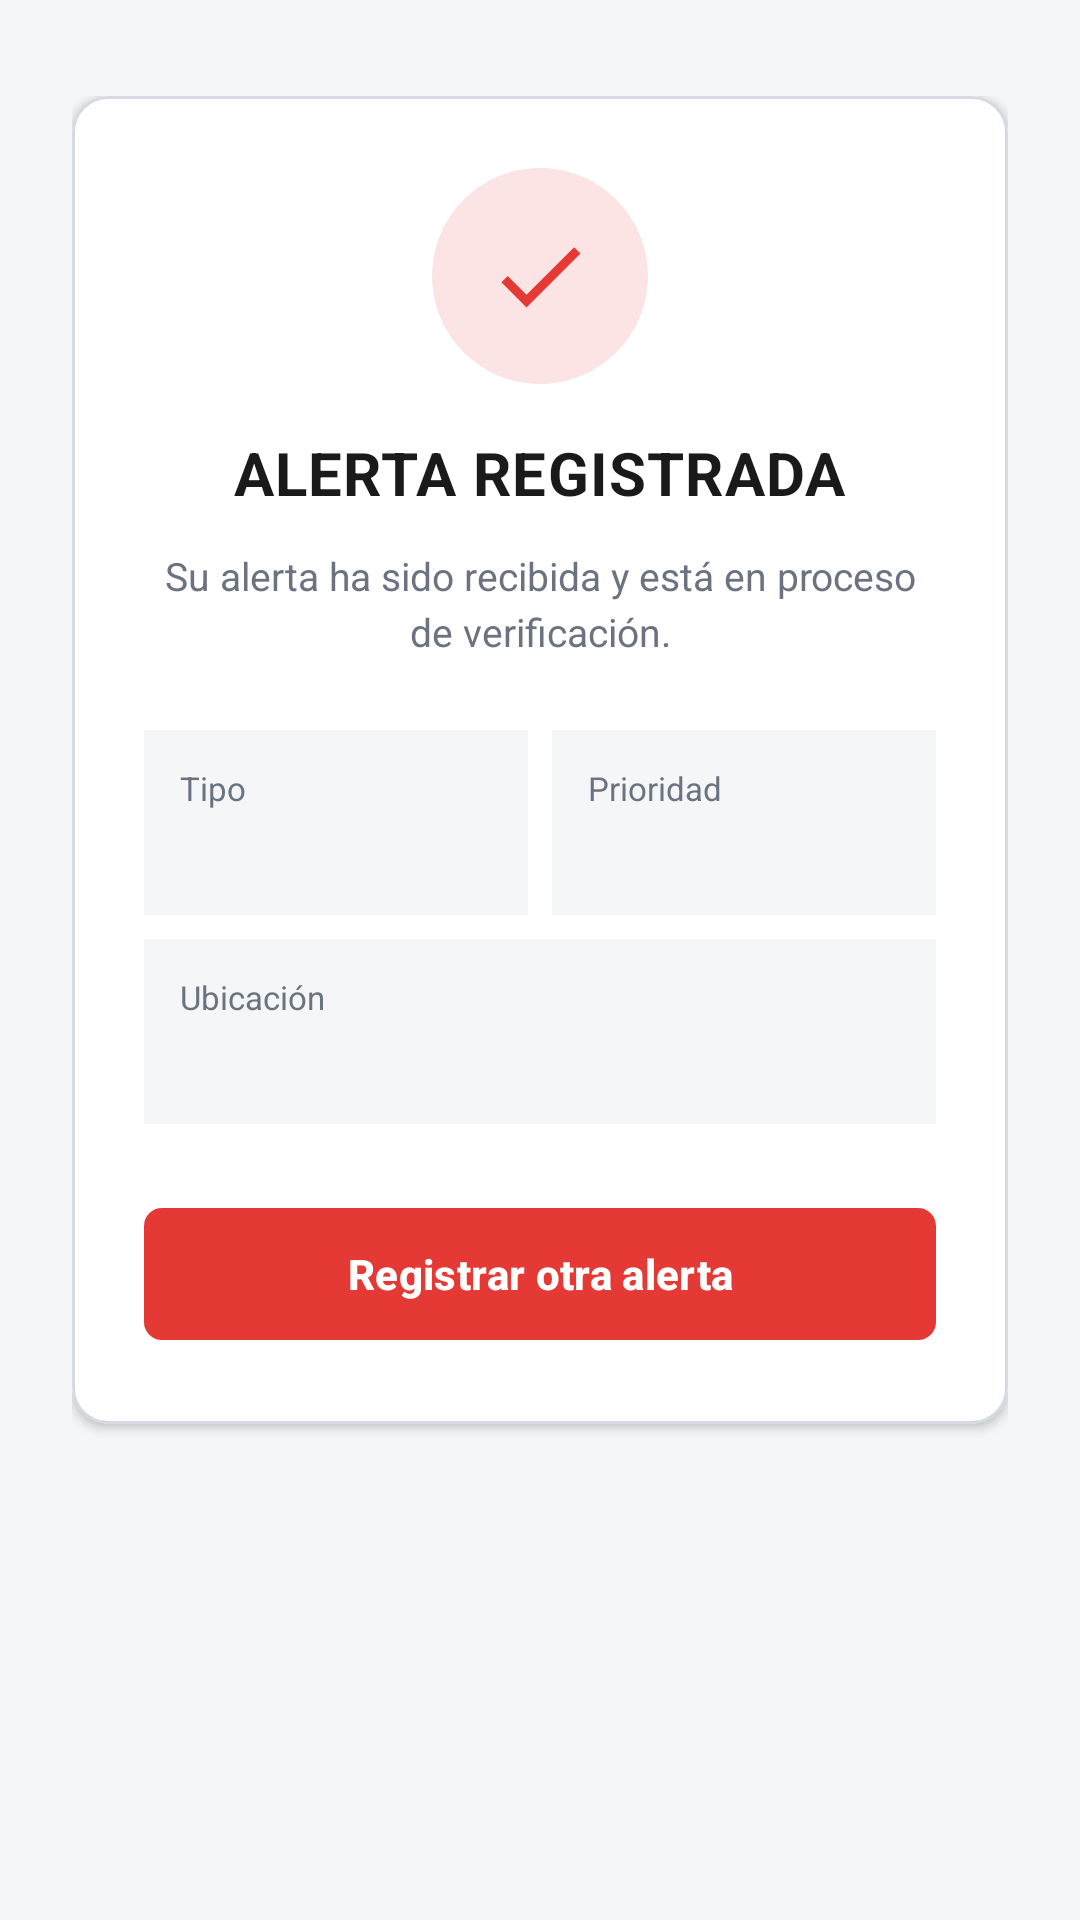

Locate icon controls on the screen. Image size 1080px×1920px, boxes as {"left": x1, "top": y1, "right": x2, "bottom": y2}.
check success: {"left": 501, "top": 247, "right": 581, "bottom": 308}
